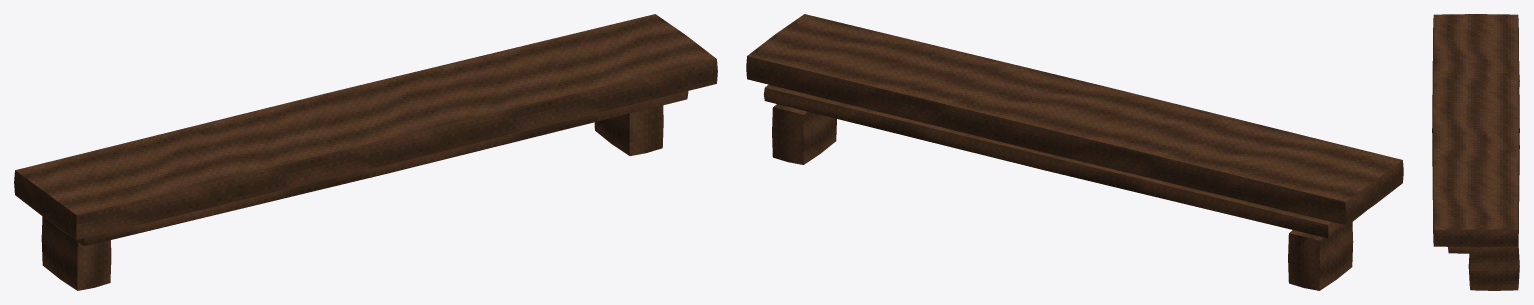
File: shelf_mantel_140.glb
The picture shows the model from 3 angles, left to right: view 1: azimuth 30°, elevation 25°; view 2: azimuth 150°, elevation 25°; view 3: azimuth 270°, elevation 25°; orthographic projection. The views are drawn at different scales.
Visible parts, largest first — view 1: mantel, corbel (×2), moulding; view 2: mantel, moulding, corbel (×2); view 3: mantel, corbel, moulding.
Boxes of the visible parts, x1,y1,x2,y2 form: mantel: [14, 14, 717, 239]; corbel (×2): [41, 105, 663, 290]; moulding: [48, 91, 688, 246]; mantel: [746, 14, 1403, 225]; moulding: [763, 84, 1366, 238]; corbel (×2): [772, 104, 1353, 290]; mantel: [1432, 14, 1519, 247]; corbel: [1468, 248, 1519, 290]; moulding: [1448, 145, 1519, 253].
Bounding box in the file's own units: 1.4 × 0.22 × 0.24.
Materials: 1 (1 with a texture image).
